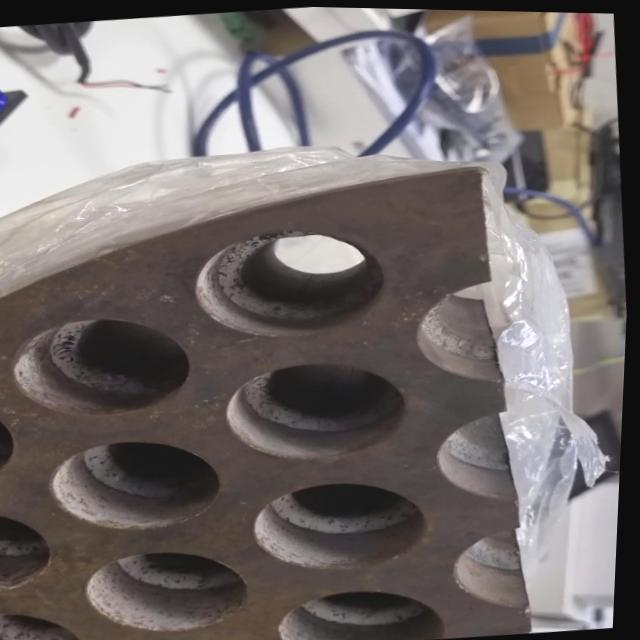Hole: (191, 219, 394, 343), (223, 352, 415, 468), (9, 309, 201, 422), (49, 431, 229, 538), (252, 472, 435, 576), (85, 542, 257, 640), (279, 579, 449, 640), (0, 504, 63, 593), (2, 604, 93, 640), (0, 389, 26, 483)
